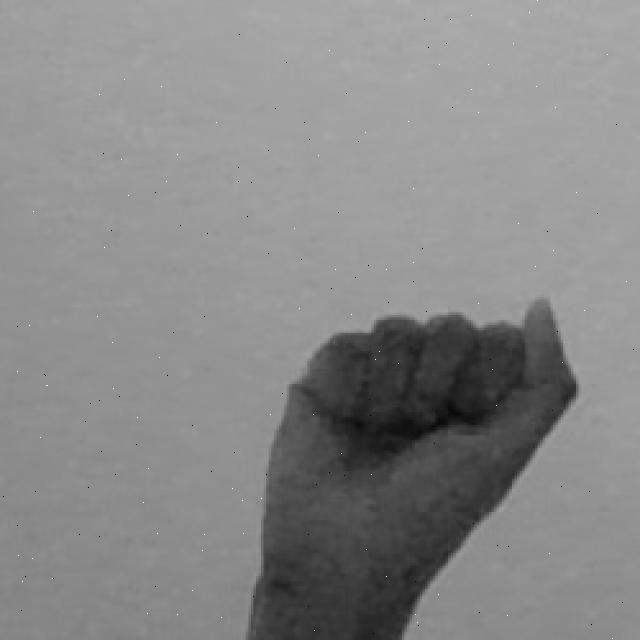A: (257, 284, 590, 640)
